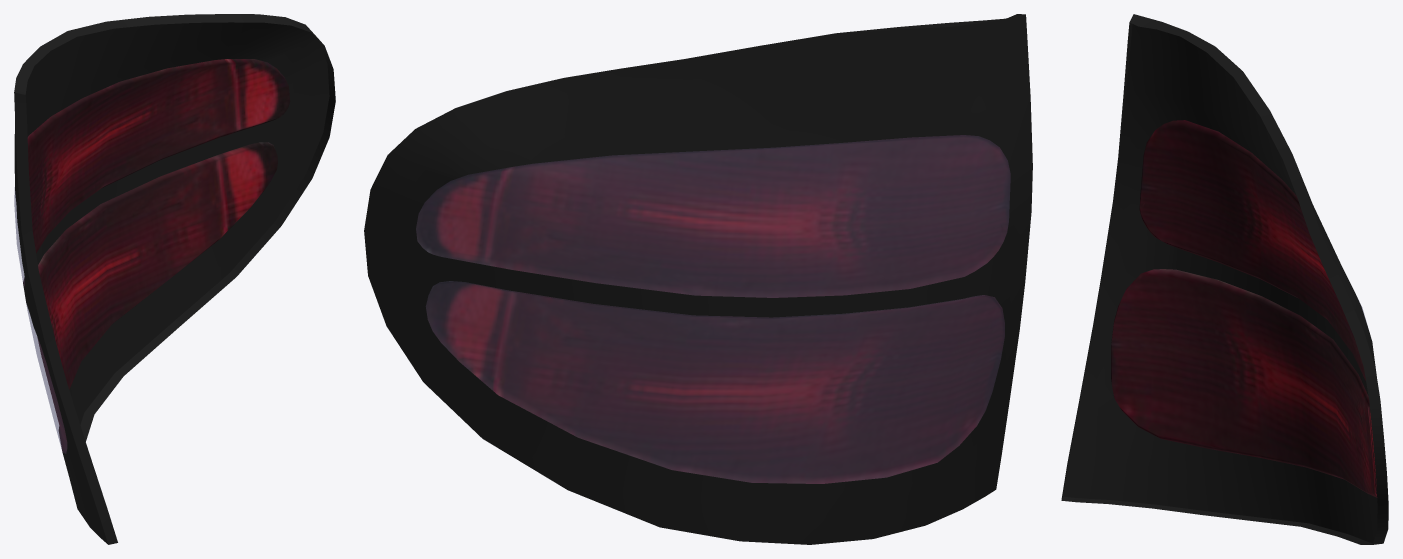
3 renders of one model, left to right at view 1: azimuth 30°, elevation 25°; view 2: azimuth 150°, elevation 25°; view 3: azimuth 270°, elevation 25°, orthographic. The views are drawn at different scales.
Parts seen in each view (by area): view 1: P353_20_541C_L_P353_20_541C_L_1_D, P353_20_541C_L_P353_20_541C_L_4_N, P353_20_541C_L_P353_20_541C_L_2_DTaSI; view 2: P353_20_541C_L_P353_20_541C_L_4_N, P353_20_541C_L_P353_20_541C_L_1_D, P353_20_541C_L_P353_20_541C_L_2_DTaSI, P353_20_541C_L_3_DTaSI_P353_20_541C_L; view 3: P353_20_541C_L_P353_20_541C_L_4_N, P353_20_541C_L_P353_20_541C_L_1_D.
Part boxes in pixels (bbox=[...]): P353_20_541C_L_P353_20_541C_L_1_D: bbox=[14, 14, 335, 544]; P353_20_541C_L_P353_20_541C_L_4_N: bbox=[23, 59, 290, 453]; P353_20_541C_L_P353_20_541C_L_2_DTaSI: bbox=[26, 304, 66, 453]; P353_20_541C_L_P353_20_541C_L_4_N: bbox=[416, 135, 1010, 483]; P353_20_541C_L_P353_20_541C_L_1_D: bbox=[364, 14, 1032, 544]; P353_20_541C_L_P353_20_541C_L_2_DTaSI: bbox=[426, 281, 1004, 483]; P353_20_541C_L_3_DTaSI_P353_20_541C_L: bbox=[416, 135, 1010, 297]; P353_20_541C_L_P353_20_541C_L_4_N: bbox=[1111, 120, 1377, 497]; P353_20_541C_L_P353_20_541C_L_1_D: bbox=[1061, 14, 1388, 544].
Bounding box in the file's own units: 23.07 × 22.25 × 14.53.
